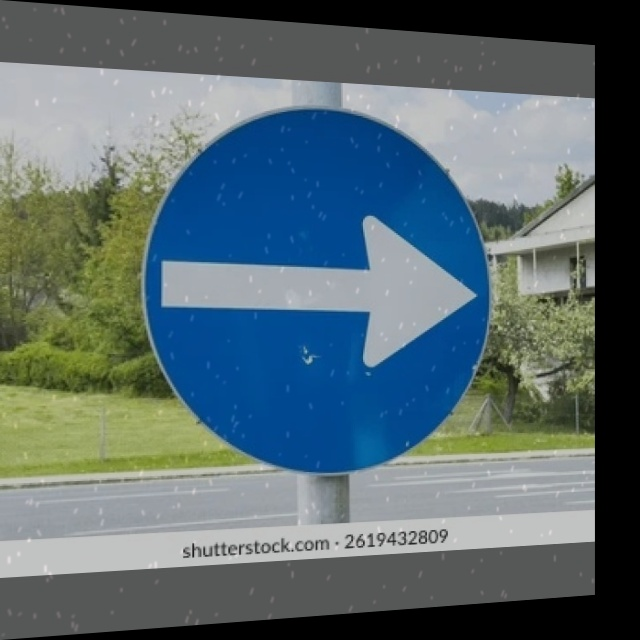Compulsory_Turn_Right: (151, 95, 493, 478)
